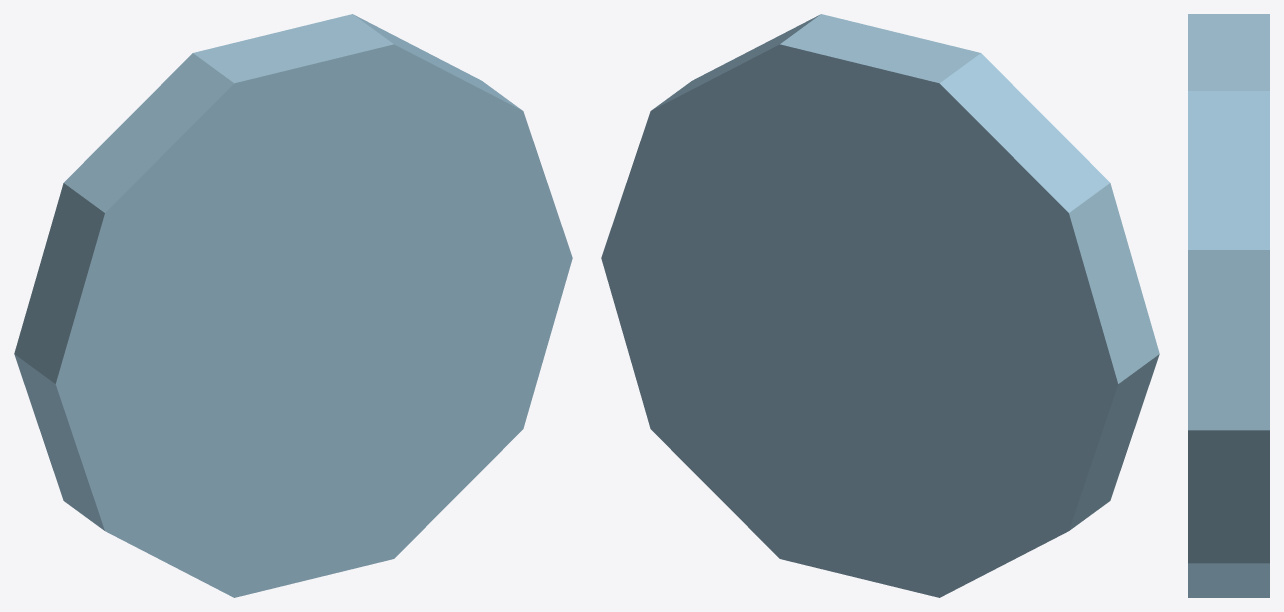
The model's file is col_coin.glb.
3 renders of one model, left to right at view 1: azimuth 30°, elevation 25°; view 2: azimuth 150°, elevation 25°; view 3: azimuth 270°, elevation 25°, orthographic.
Visible parts, largest first — view 1: col_coin2; view 2: col_coin2; view 3: col_coin2.
Boxes of the visible parts, bbox=[...] form: col_coin2: bbox=[14, 14, 572, 597]; col_coin2: bbox=[601, 14, 1159, 597]; col_coin2: bbox=[1188, 14, 1269, 597].
Size of the model in its own units: 0.36 by 0.3424 by 0.05.
